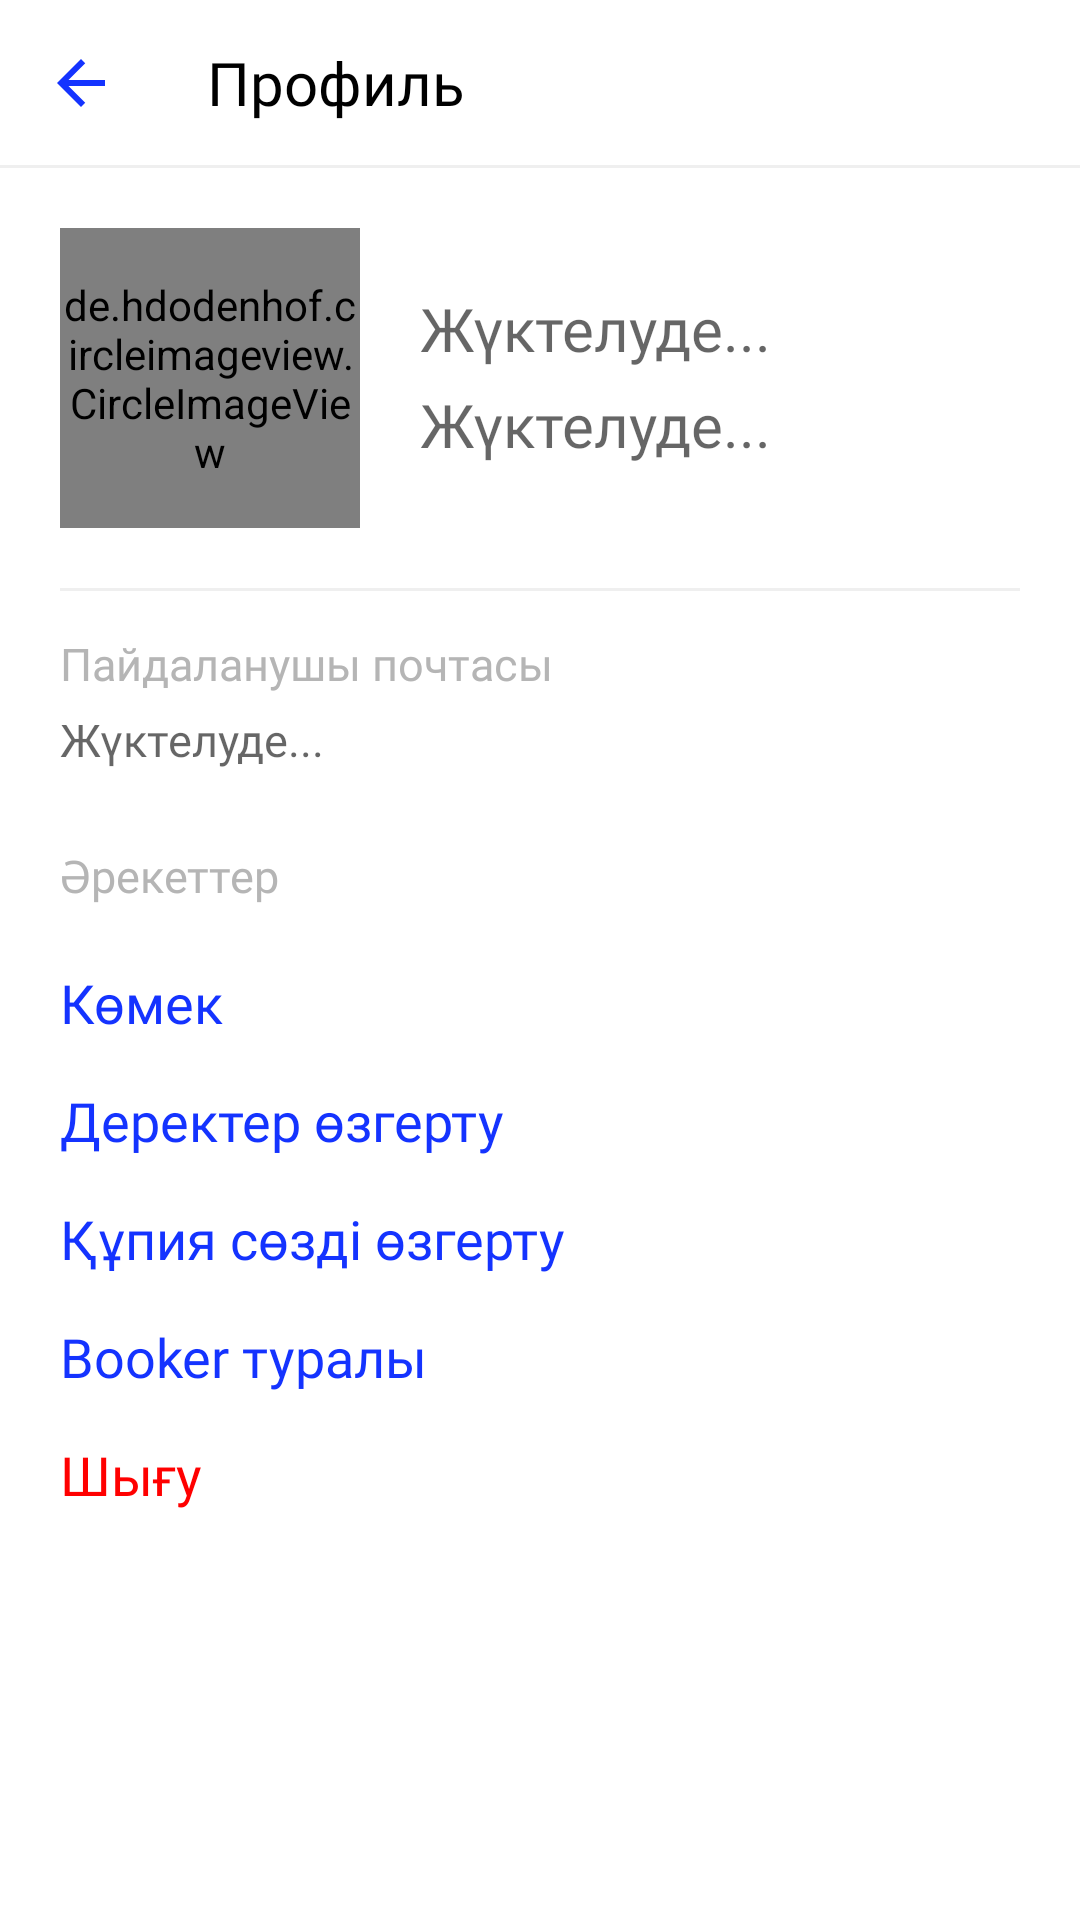

Named icons in this screenshot (1080×1920) and their bounding boxes, Rect(x1, y1, x2, y2):
back: Rect(57, 59, 105, 107)
